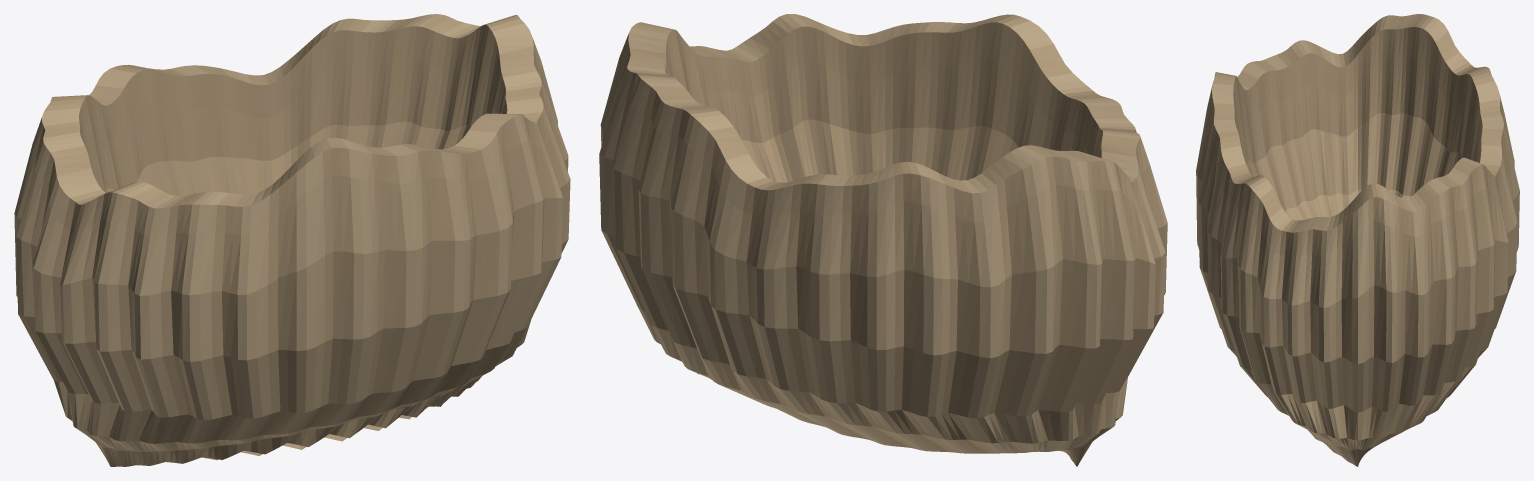
3 views of the same model, side by side, from view 1: azimuth 30°, elevation 25°; view 2: azimuth 150°, elevation 25°; view 3: azimuth 270°, elevation 25° (orthographic). The views are drawn at different scales.
Parts seen in each view (by area): view 1: incomplete_elliptical_ernietta_basal_fossil_sack_integral_pa; view 2: incomplete_elliptical_ernietta_basal_fossil_sack_integral_pa; view 3: incomplete_elliptical_ernietta_basal_fossil_sack_integral_pa.
Part boxes in pixels (box(x1,y1,x2,y2)): incomplete_elliptical_ernietta_basal_fossil_sack_integral_pa: box(14, 14, 570, 466); incomplete_elliptical_ernietta_basal_fossil_sack_integral_pa: box(599, 14, 1167, 466); incomplete_elliptical_ernietta_basal_fossil_sack_integral_pa: box(1196, 14, 1519, 466).
Bounding box in the file's own units: 0.0848 × 0.0541 × 0.0531.
